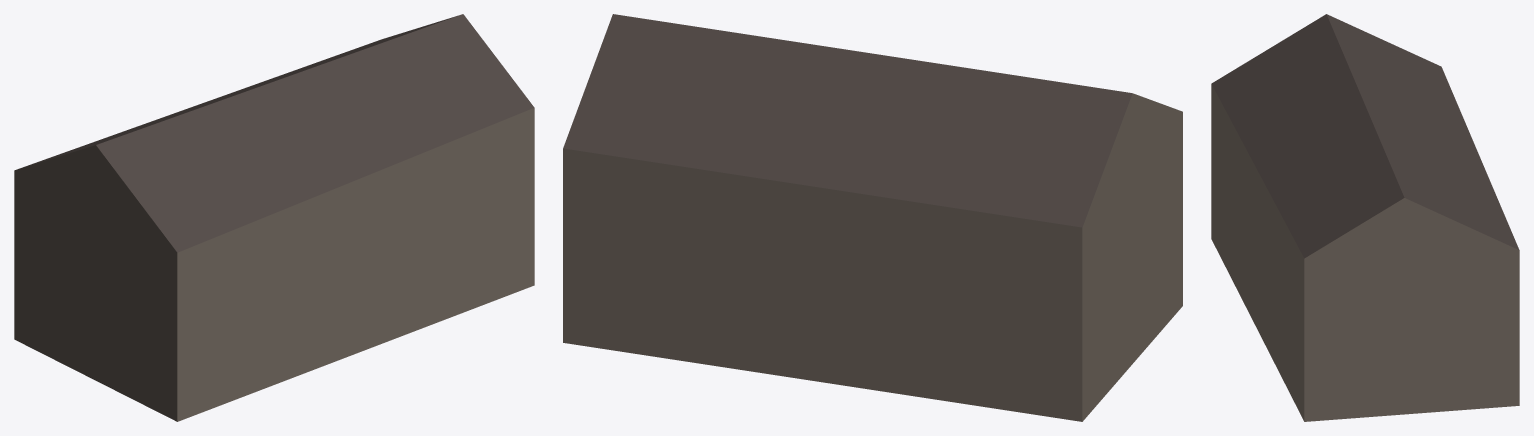
The picture shows the model from 3 angles, left to right: view 1: azimuth 30°, elevation 25°; view 2: azimuth 150°, elevation 25°; view 3: azimuth 270°, elevation 25°; orthographic projection. The views are drawn at different scales.
Parts seen in each view (by area): view 1: HP-w1365659931; view 2: HP-w1365659931; view 3: HP-w1365659931.
Part boxes in pixels (x1=…): HP-w1365659931: x1=14, y1=14, x2=534, y2=421; HP-w1365659931: x1=563, y1=14, x2=1182, y2=421; HP-w1365659931: x1=1211, y1=14, x2=1519, y2=421.
Size of the model in its own units: 24.8 by 12.54 by 16.17.
